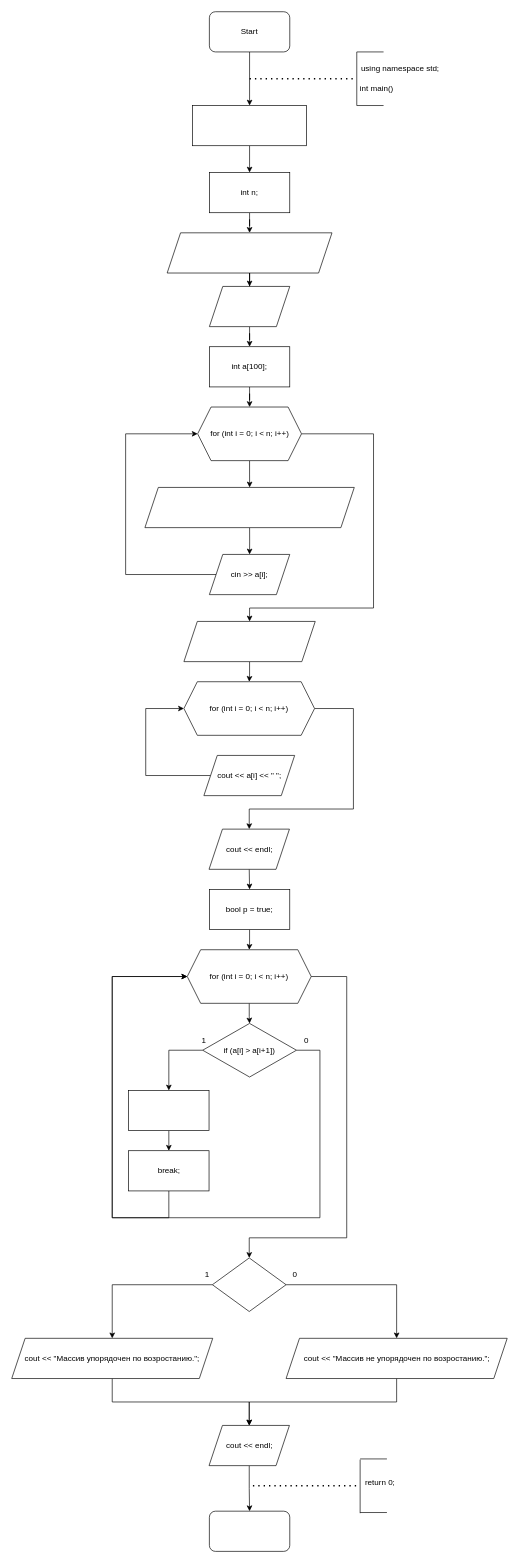
Image size: 519x1563. Some labels were removed from this diagram. Each missing label, with the centre of its shape:
cin >> n;: point 249,306
cout << "Введите размер массива: ";: point 249,252
cout << "Введите число номер " << n + 1 << ":";: point 249,507
cout << "Массив: ";: point 249,641
end: point 249,1531
if (p == true): point 249,1284
p = false;: point 168,1110
setlocale(LC_ALL, "Russian");: point 249,125
